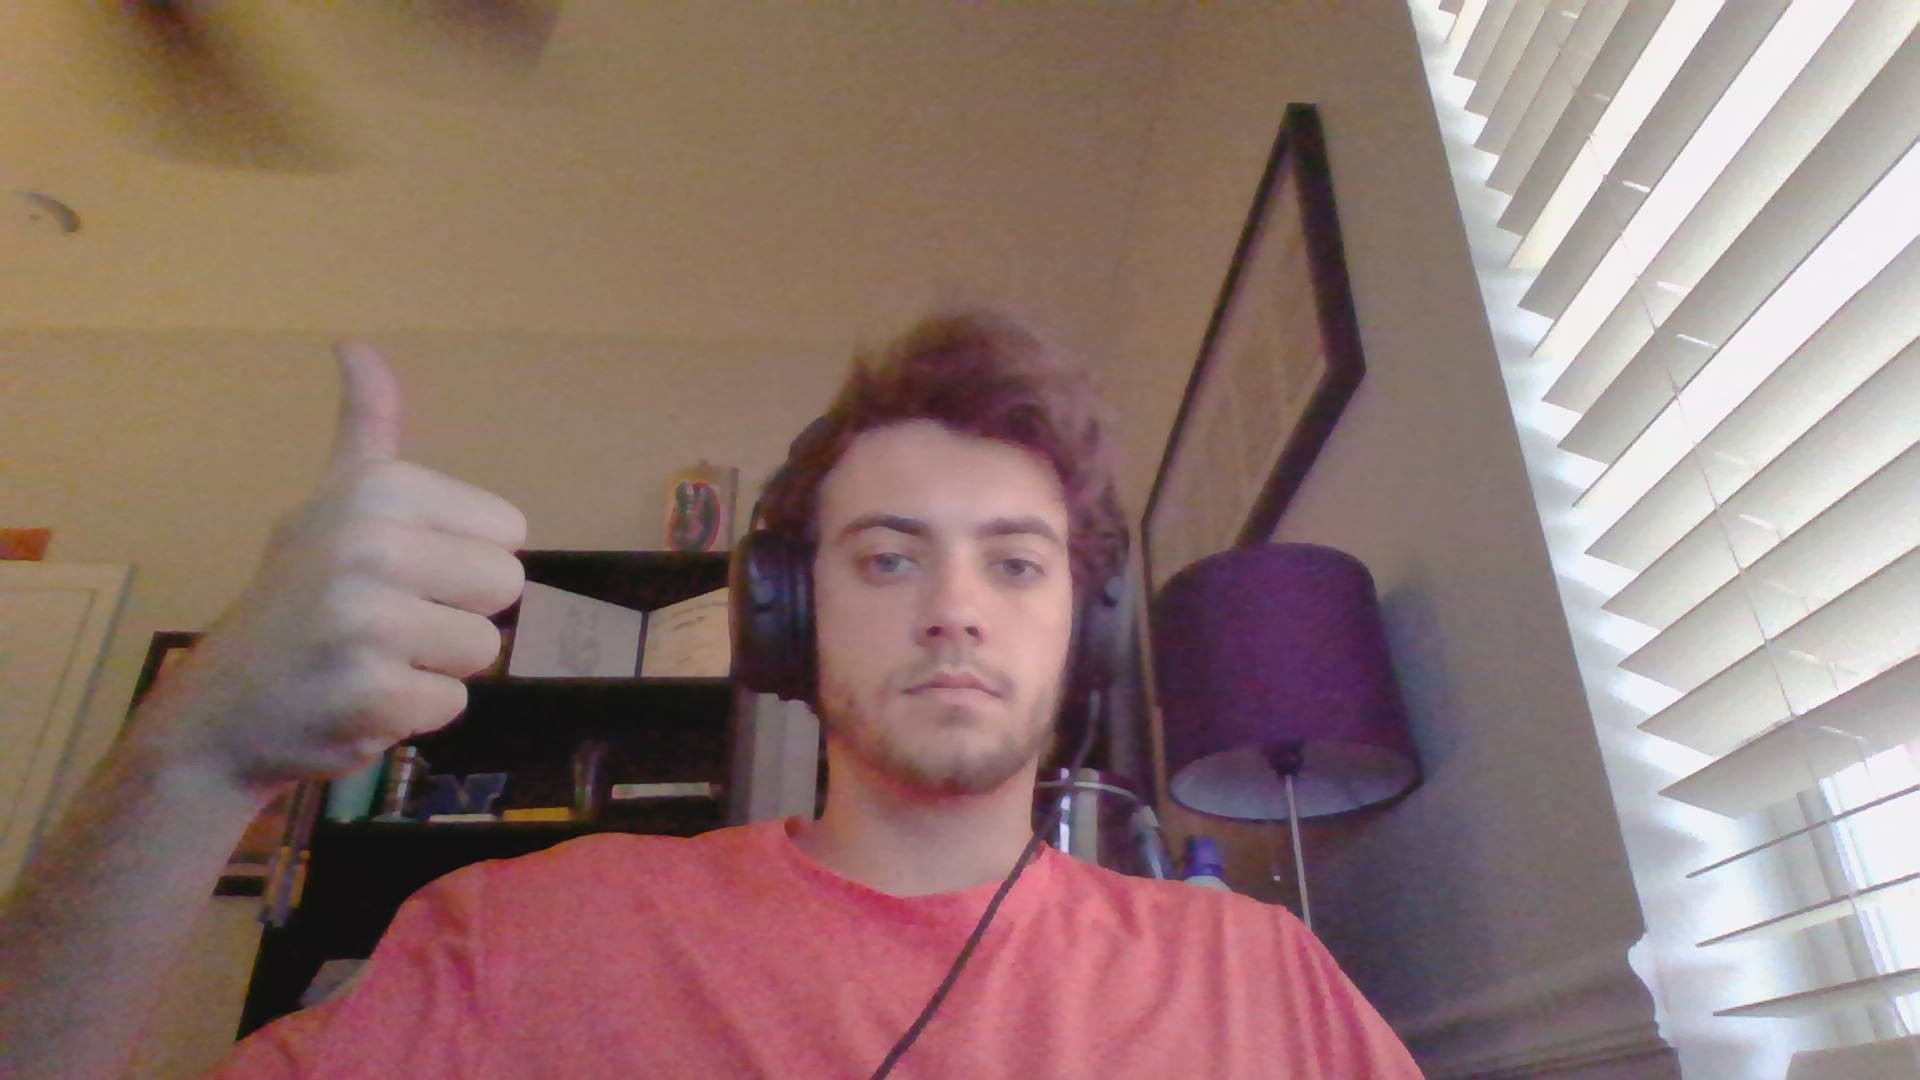Right Thumb Up: (178, 316, 543, 802)
